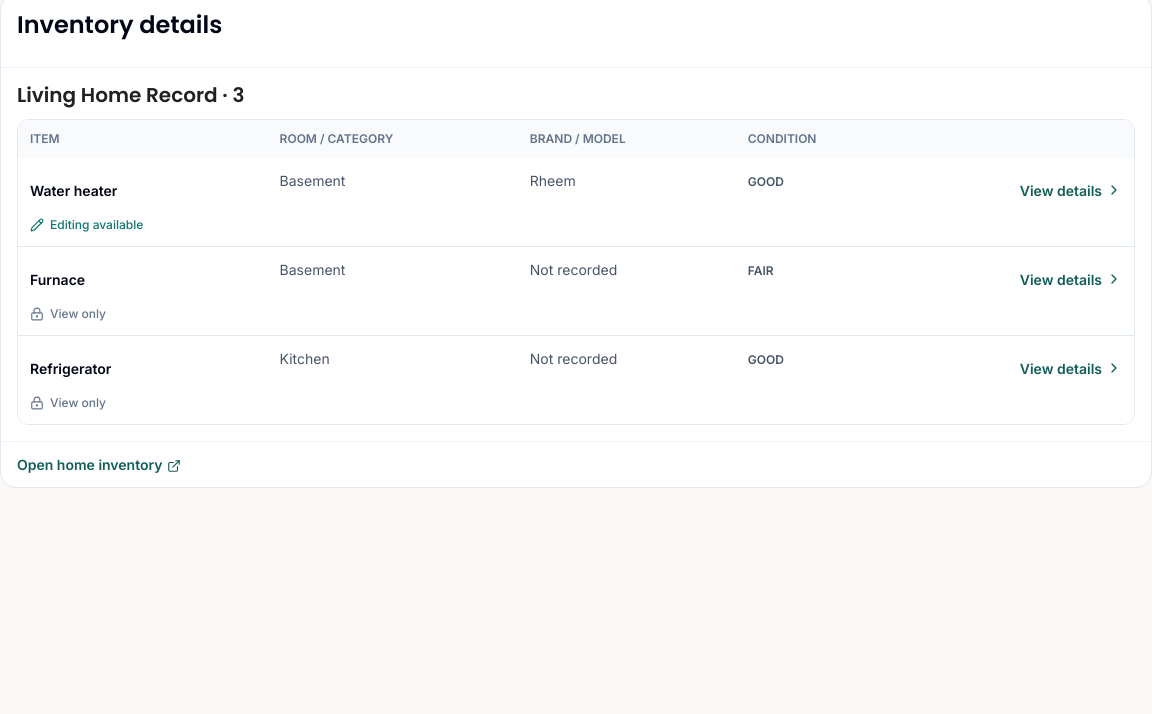
Test case: three or fewer corrections stay inline with no disclosure
The image size is (1152, 714).
Click the button "Water heater".
click(74, 190)  # box 30,170 -> 117,210
(page scrolled)
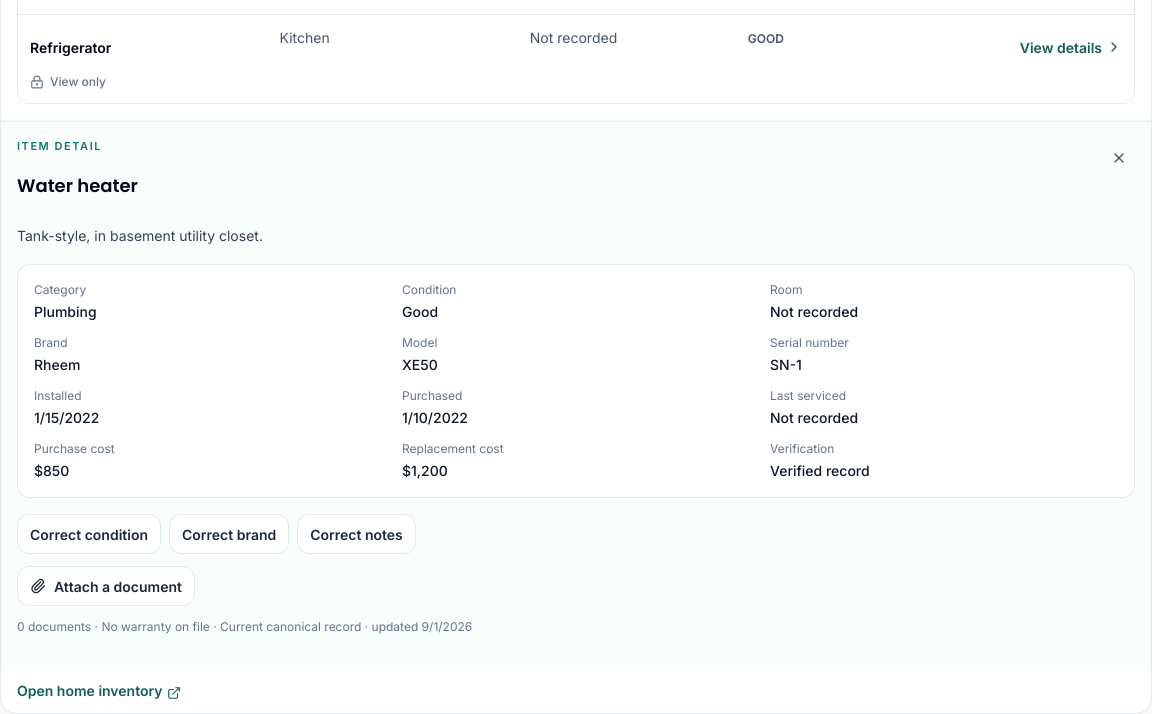
Check: the element named "Corrections for" is shown, box 17,514 -> 416,554
